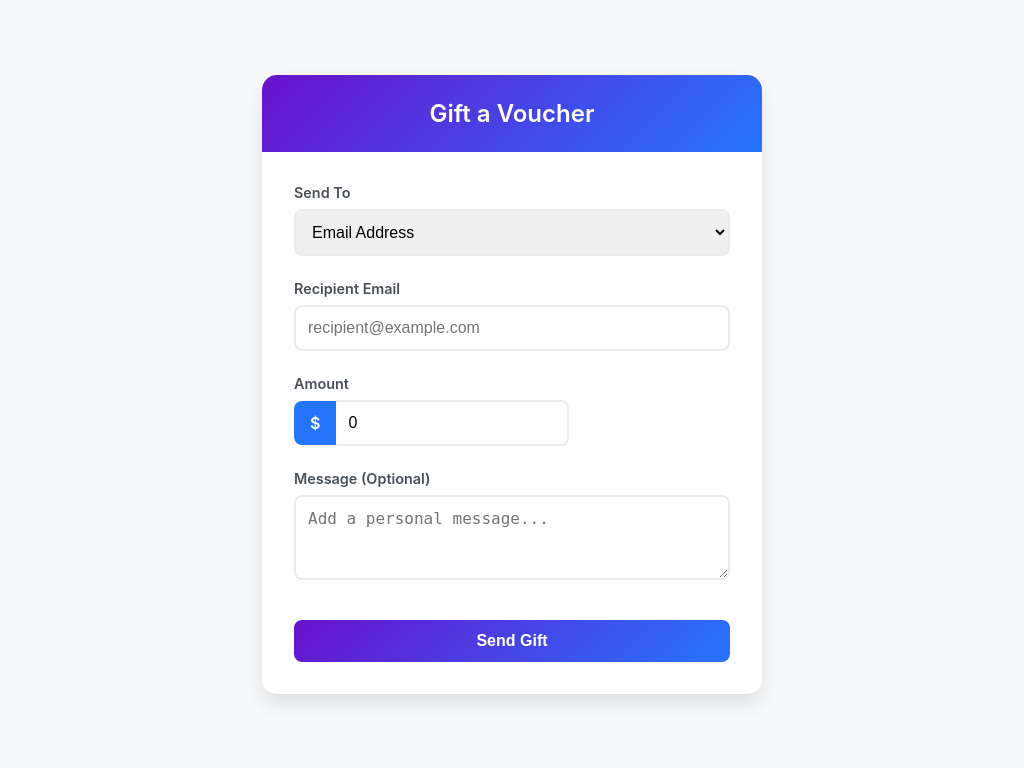
Scenario: VoucherForm › submits the form with valid data
// Fill out the form
Type "test@example.com" into the field labelled "Recipient Email" at x=512, y=328, box [294,304,730,350]
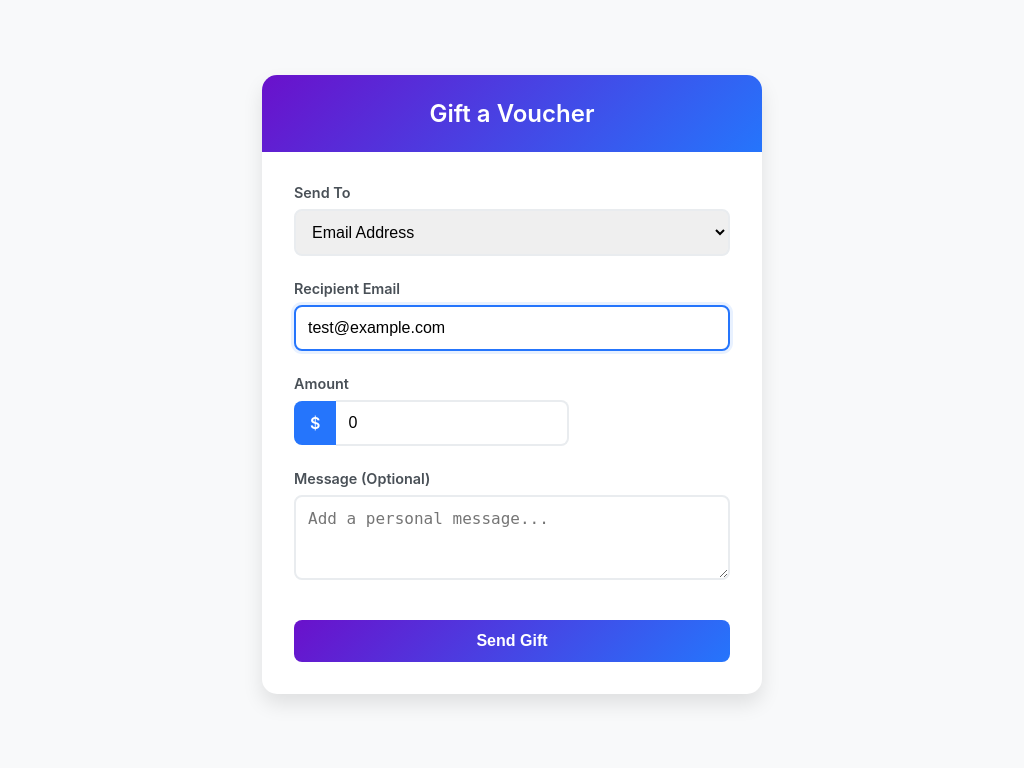
Type "100" into the number field labelled "Amount" at x=453, y=422, box [336,400,569,446]
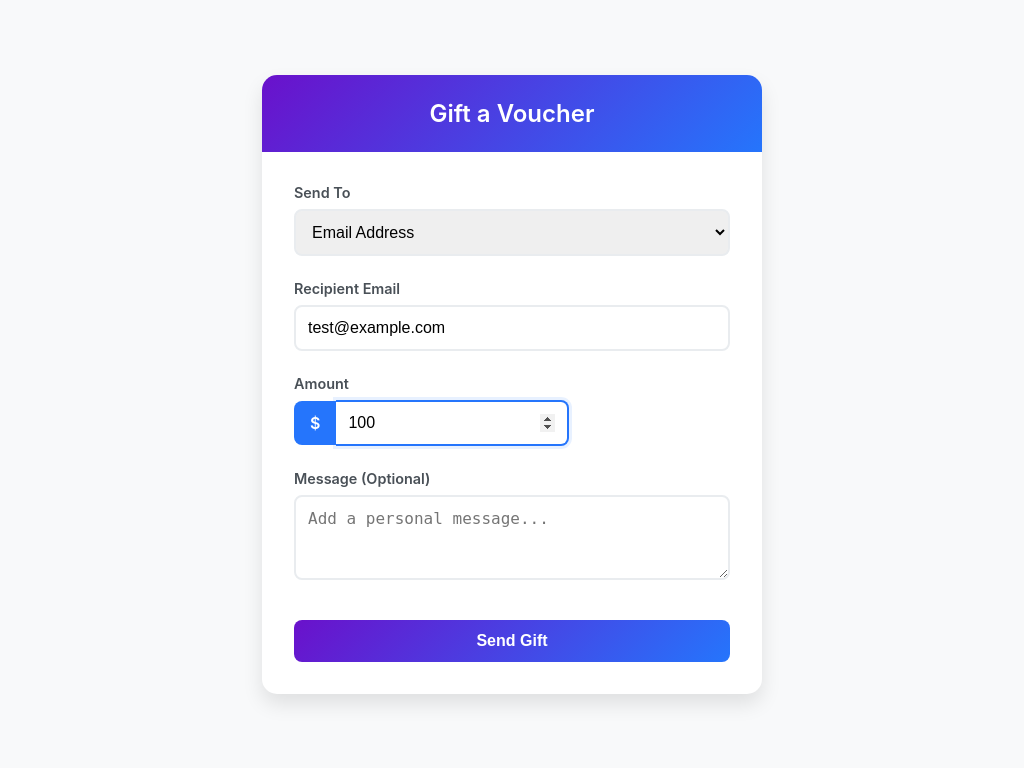
Click the button "Send Gift" at x=512, y=640, box [294,620,730,662]
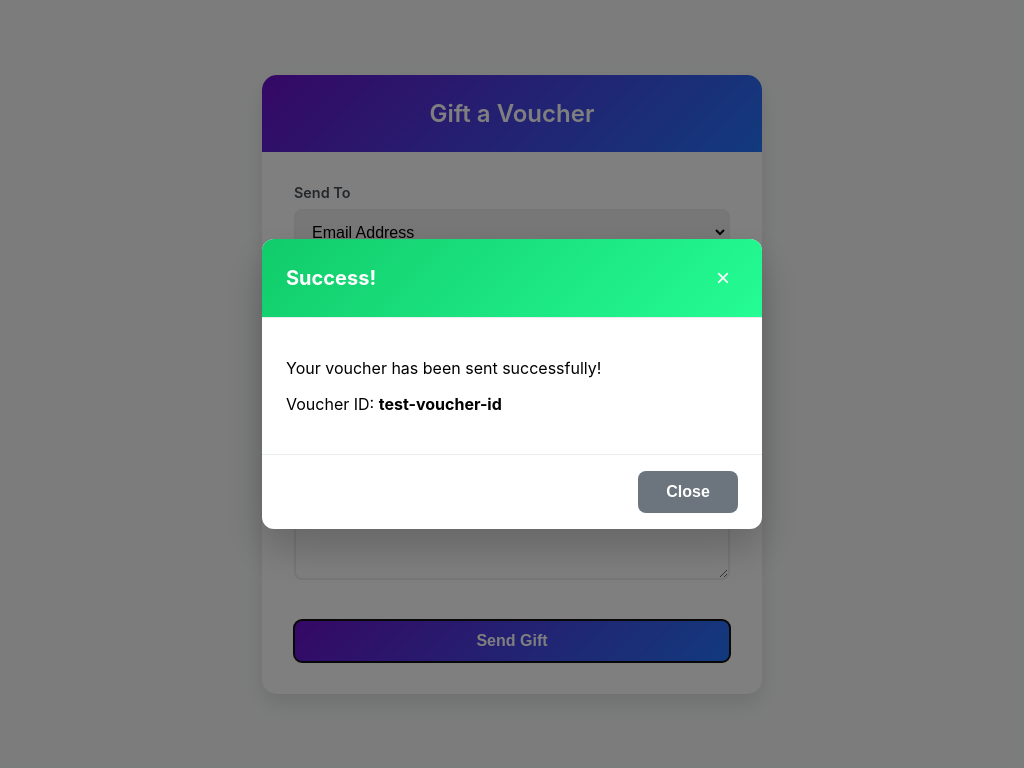
Expected: the heading "Success!" is shown, [286,266,376,290]
